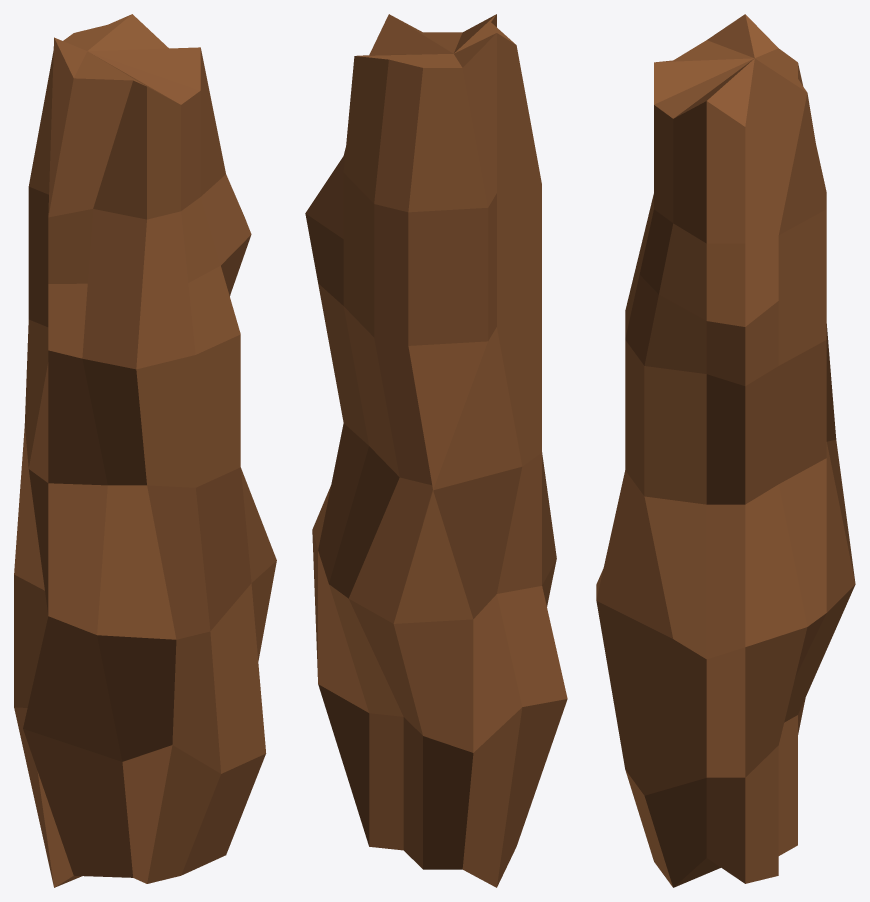
Rendered from small_pillar.gltf.
3 views of the same model, side by side, from view 1: azimuth 30°, elevation 25°; view 2: azimuth 150°, elevation 25°; view 3: azimuth 270°, elevation 25° (orthographic). The views are drawn at different scales.
Parts seen in each view (by area): view 1: cylinder-area; view 2: cylinder-area; view 3: cylinder-area.
Part boxes in pixels (x1,y1,x2,y2): cylinder-area: (14, 14, 276, 887); cylinder-area: (305, 14, 567, 887); cylinder-area: (596, 14, 855, 887).
Bounding box in the file's own units: 10 × 32 × 9.
Materials: 1 (1 with a texture image).
